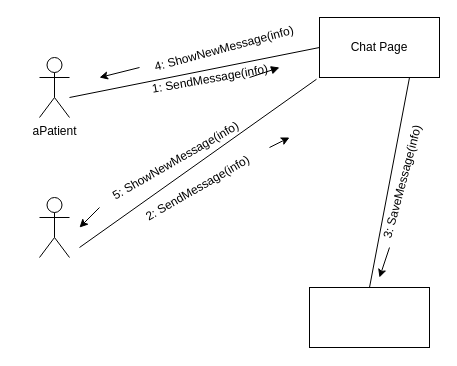
Image size: 457x366. Some labels were removed from this diagram. Here are the shapes that lost their labels. From the top down, the centre of each, then its label:
At point (54, 227): "aPsychologist".
At point (369, 317): "Chat".
